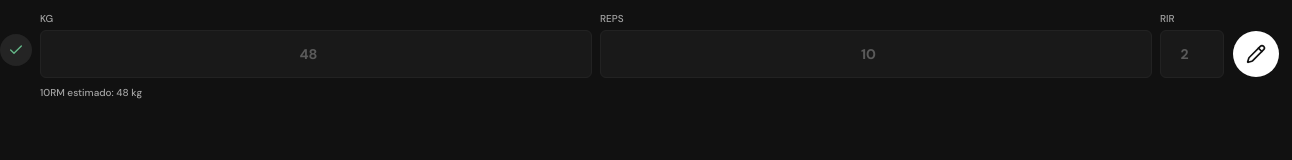
Scenario: RegistroSerie › falha ao salvar a correção e mantém a edição aberta
This screenshot has width=1292, height=160.
Click the button named "Editar série 1". click: (1256, 54)
box: [1232,30,1280,78]
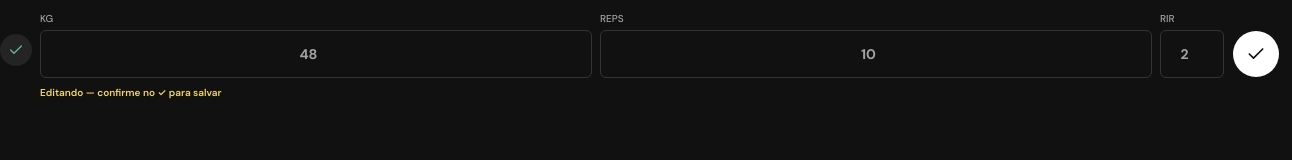
Click the button named "Salvar correção da série 1". click: (1256, 54)
box: [1232,30,1280,78]
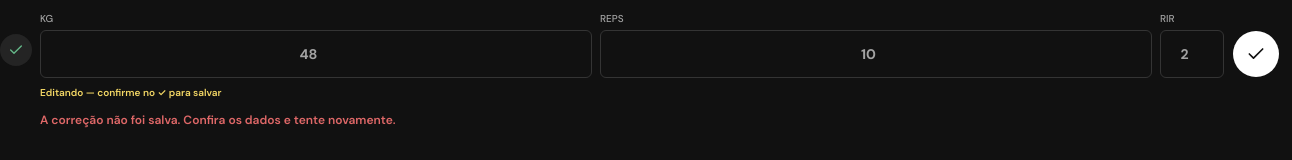
Now the text "Editando — confirme no ✓ para salvar" is shown, box [40,86,222,99]
Now the message shows "A correção não foi salva", box [40,112,396,128]
